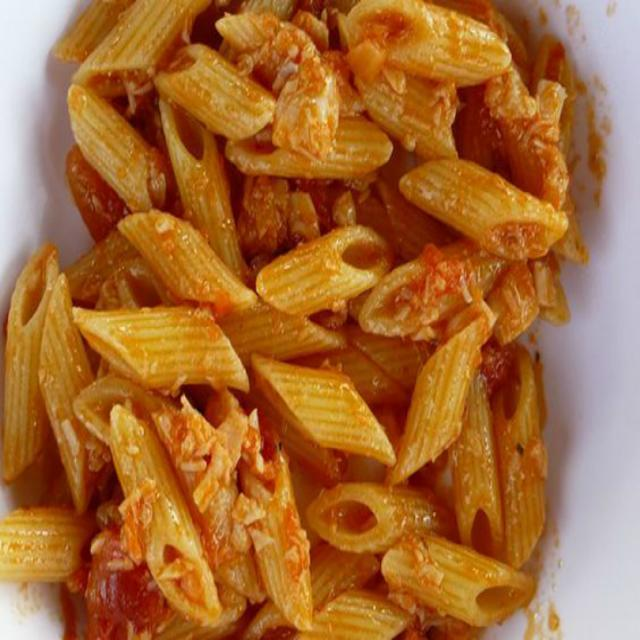Pasta al ragu: (35, 11, 609, 633)
